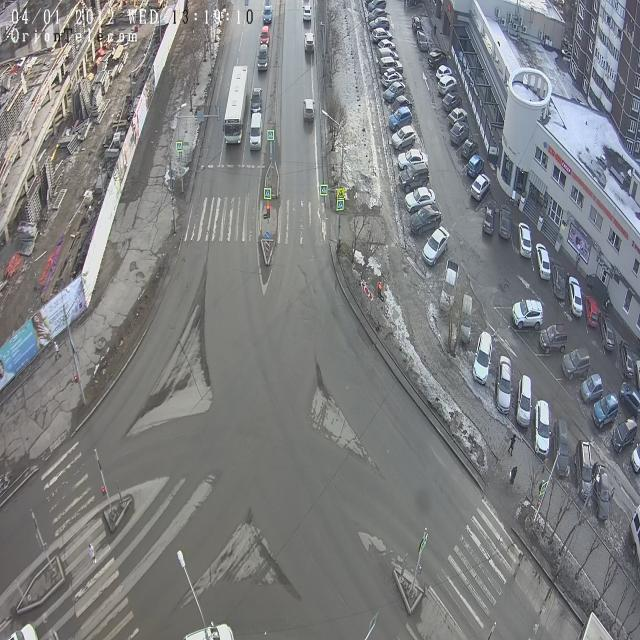car: (222, 63, 250, 148), (574, 436, 595, 505), (398, 158, 432, 198), (511, 297, 545, 336), (422, 224, 450, 269), (532, 394, 550, 464), (409, 202, 440, 242), (438, 262, 460, 318), (496, 352, 514, 420), (591, 389, 620, 430), (594, 460, 612, 526), (554, 414, 570, 483), (473, 331, 493, 386), (404, 182, 436, 216), (516, 374, 533, 436), (561, 346, 591, 381), (538, 325, 568, 359), (577, 372, 605, 406), (611, 416, 636, 454), (388, 100, 414, 136), (566, 272, 584, 322), (617, 339, 636, 385), (617, 381, 640, 418), (599, 309, 616, 359), (458, 294, 473, 350), (551, 251, 566, 305), (391, 123, 417, 154), (382, 76, 406, 109), (470, 170, 492, 204), (583, 290, 600, 334), (248, 109, 263, 155), (517, 218, 533, 261), (426, 41, 447, 72), (378, 55, 405, 79), (536, 237, 550, 283), (449, 118, 469, 150), (399, 147, 428, 169), (388, 94, 412, 120), (482, 193, 495, 240), (466, 151, 486, 181), (461, 136, 480, 166), (370, 24, 395, 46), (499, 203, 512, 244), (446, 106, 469, 129), (437, 74, 458, 99), (257, 42, 271, 78), (442, 94, 463, 117), (250, 87, 264, 119), (376, 36, 397, 57), (368, 15, 390, 34), (436, 58, 452, 84), (303, 95, 315, 126), (416, 23, 428, 53), (303, 28, 315, 56), (258, 24, 272, 48), (412, 12, 423, 37), (261, 5, 274, 26), (300, 5, 314, 23)
